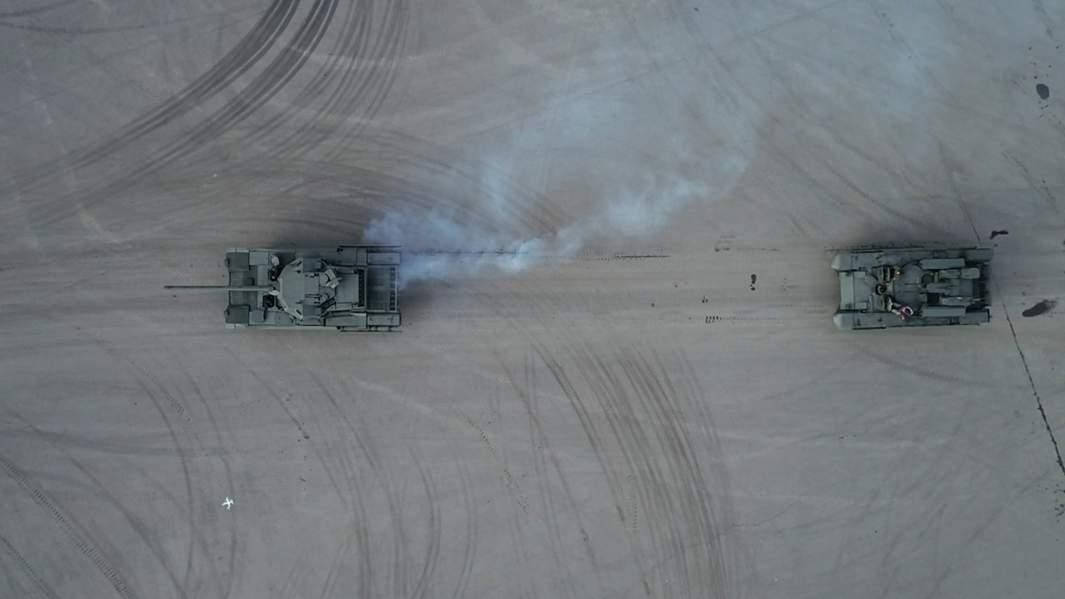armored_car: (158, 239, 407, 341), (836, 236, 992, 332)
